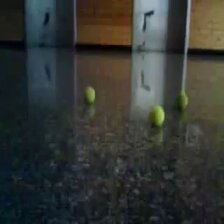tennis: (149, 105, 164, 127), (84, 86, 96, 106), (175, 93, 188, 111)
